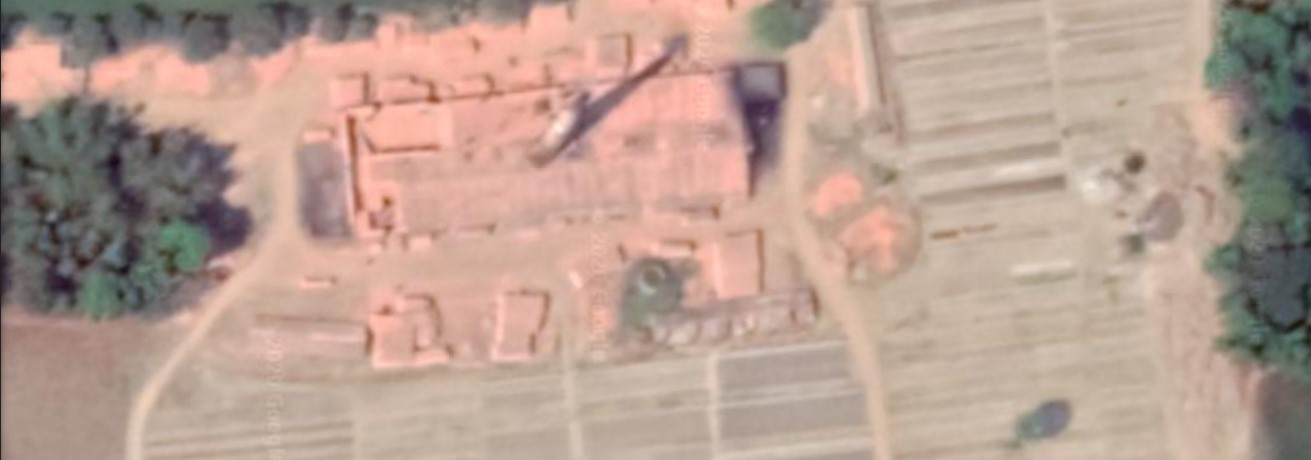kiln: (329, 44, 773, 248)
